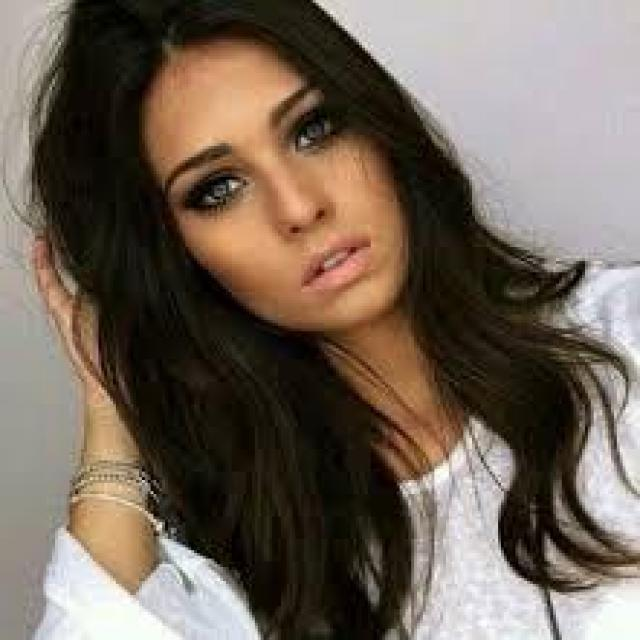person: (26, 0, 631, 637)
